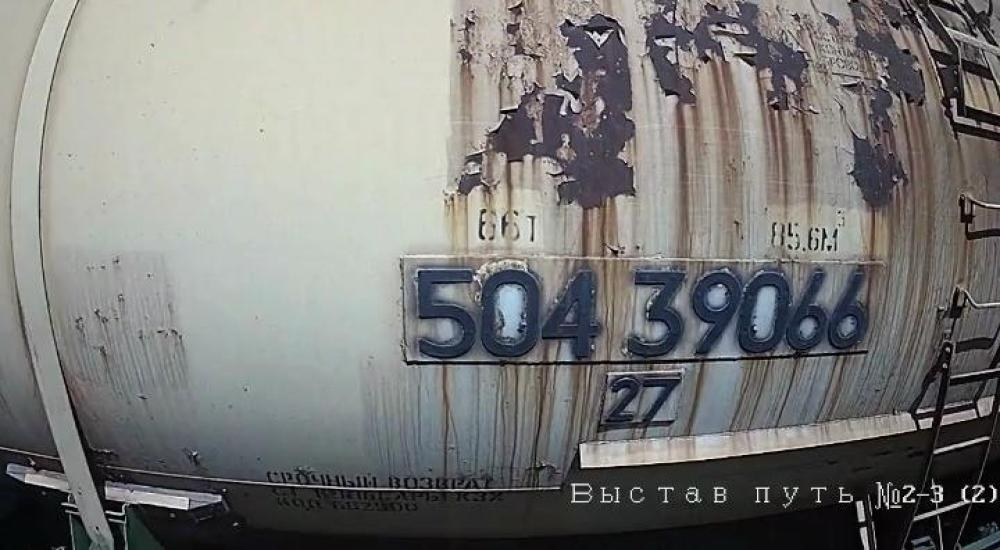Wagon-number: (398, 256, 875, 364)
